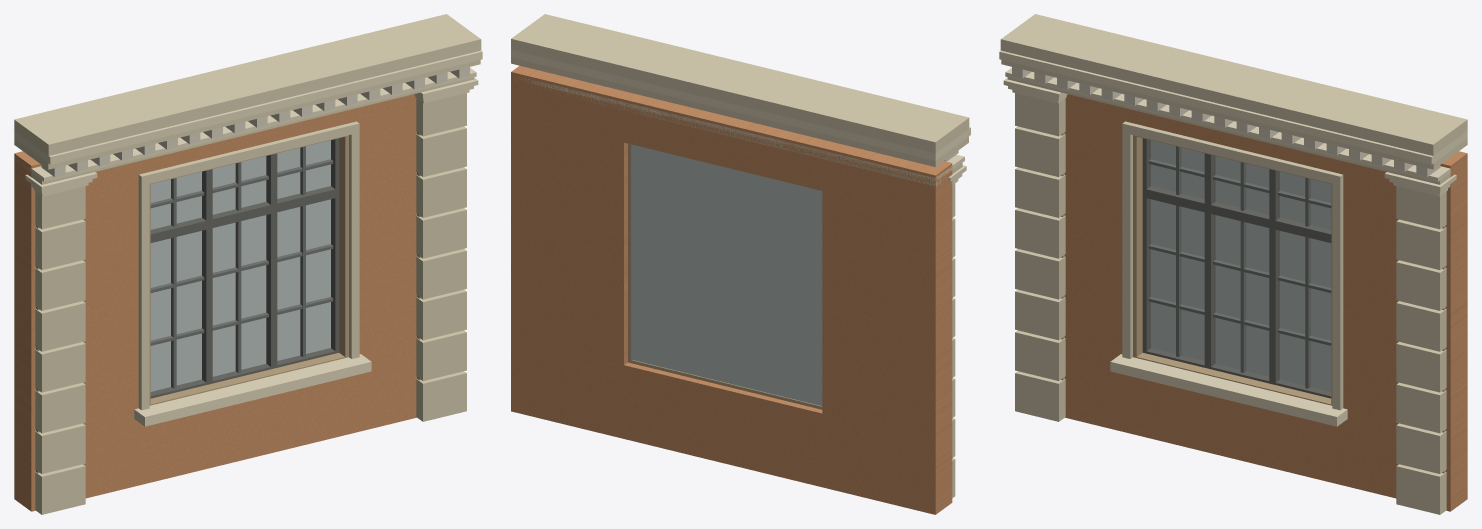
The model's file is wanping-7-casement-and-cornice-far.glb.
3 renders of one model, left to right at view 1: azimuth 30°, elevation 25°; view 2: azimuth 150°, elevation 25°; view 3: azimuth 330°, elevation 25°, orthographic.
Visible parts, largest first — view 1: 宛平路7号上层三联格窗与齿饰檐口; view 2: 宛平路7号上层三联格窗与齿饰檐口; view 3: 宛平路7号上层三联格窗与齿饰檐口.
Part boxes in pixels (<box>): 宛平路7号上层三联格窗与齿饰檐口: <box>14,14,482,514</box>; 宛平路7号上层三联格窗与齿饰檐口: <box>511,14,970,514</box>; 宛平路7号上层三联格窗与齿饰檐口: <box>999,14,1467,514</box>.
Size of the model in its own units: 3.07 by 2.55 by 0.439.
Materials: 9 (1 with a texture image).
